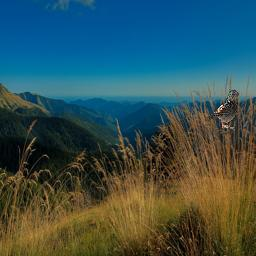Sparrow: (207, 89, 239, 129)
